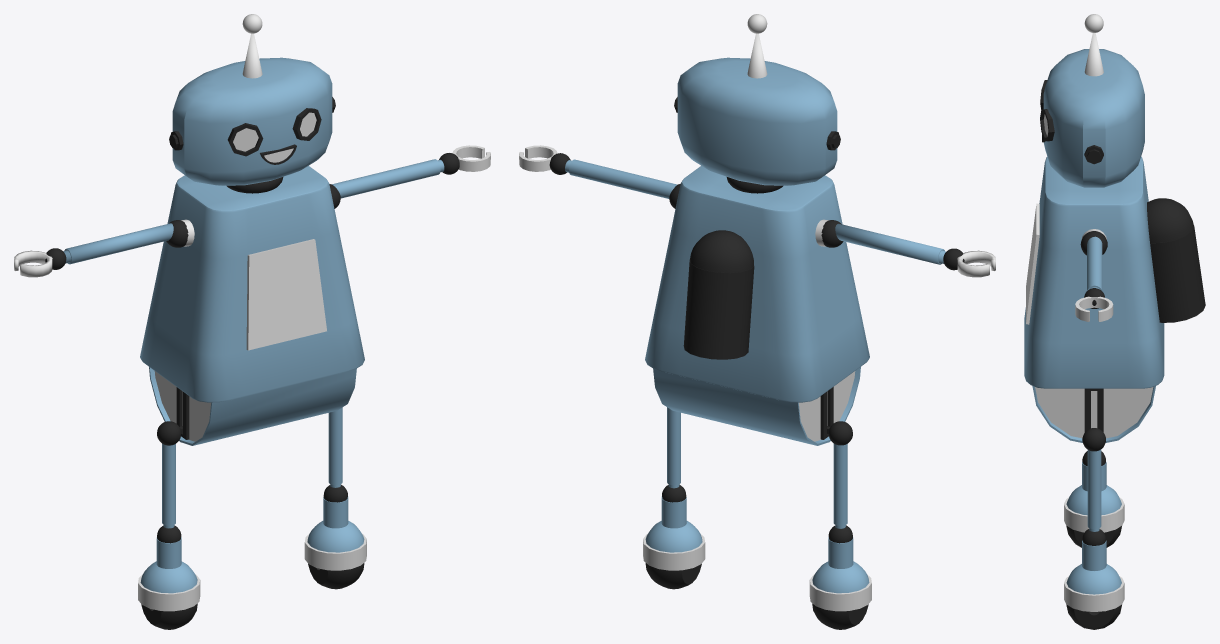
Rendered from robot_FBX_BLUE.fbx.
3 views of the same model, side by side, from view 1: azimuth 30°, elevation 25°; view 2: azimuth 150°, elevation 25°; view 3: azimuth 270°, elevation 25° (orthographic). The views are drawn at different scales.
Visible parts, largest first — view 1: R1_Body, R1_Legs_BOTTOM, R1_Legs_TOP, R1_Arm_TOP.R, R1_Arm_TOP.L, R1_Arm_BOTTOM.R, R1_Arm_BOTTOM.L; view 2: R1_Body, R1_Legs_BOTTOM, R1_Legs_TOP, R1_Arm_TOP.R, R1_Arm_TOP.L, R1_Arm_BOTTOM.R, R1_Arm_BOTTOM.L; view 3: R1_Body, R1_Legs_BOTTOM, R1_Legs_TOP, R1_Arm_TOP.L, R1_Arm_BOTTOM.L.
Part boxes in pixels (<box>): R1_Body: <box>140,14,364,445</box>; R1_Legs_BOTTOM: <box>138,484,366,629</box>; R1_Legs_TOP: <box>157,407,342,525</box>; R1_Arm_TOP.R: <box>64,220,188,264</box>; R1_Arm_TOP.L: <box>329,159,440,208</box>; R1_Arm_BOTTOM.R: <box>14,248,71,277</box>; R1_Arm_BOTTOM.L: <box>437,145,490,174</box>; R1_Body: <box>645,14,869,445</box>; R1_Legs_BOTTOM: <box>643,484,871,629</box>; R1_Legs_TOP: <box>667,407,852,525</box>; R1_Arm_TOP.R: <box>821,220,944,264</box>; R1_Arm_TOP.L: <box>569,159,680,208</box>; R1_Arm_BOTTOM.R: <box>938,248,995,277</box>; R1_Arm_BOTTOM.L: <box>519,145,571,174</box>; R1_Body: <box>1024,14,1205,442</box>; R1_Legs_BOTTOM: <box>1064,451,1124,629</box>; R1_Legs_TOP: <box>1082,428,1105,528</box>; R1_Arm_TOP.L: <box>1080,231,1107,290</box>; R1_Arm_BOTTOM.L: <box>1075,287,1113,321</box>.
Size of the model in its own units: 165 by 199 by 57.1.
